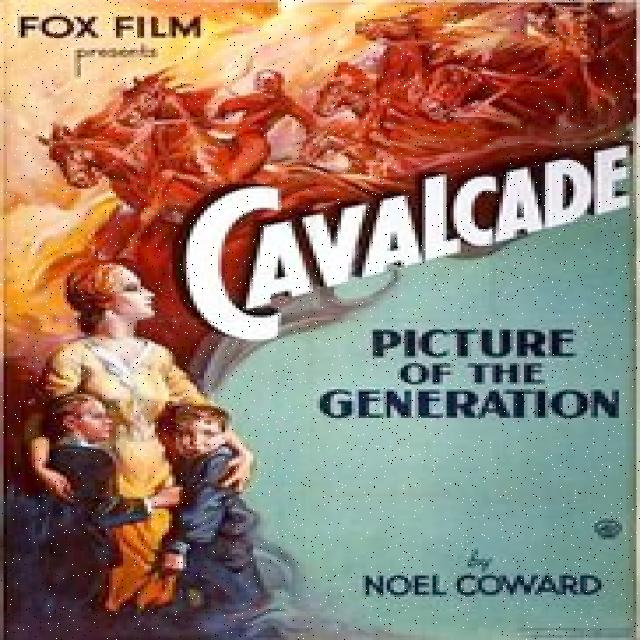movie-judul: (173, 144, 634, 346)
picture: (2, 0, 639, 640)
